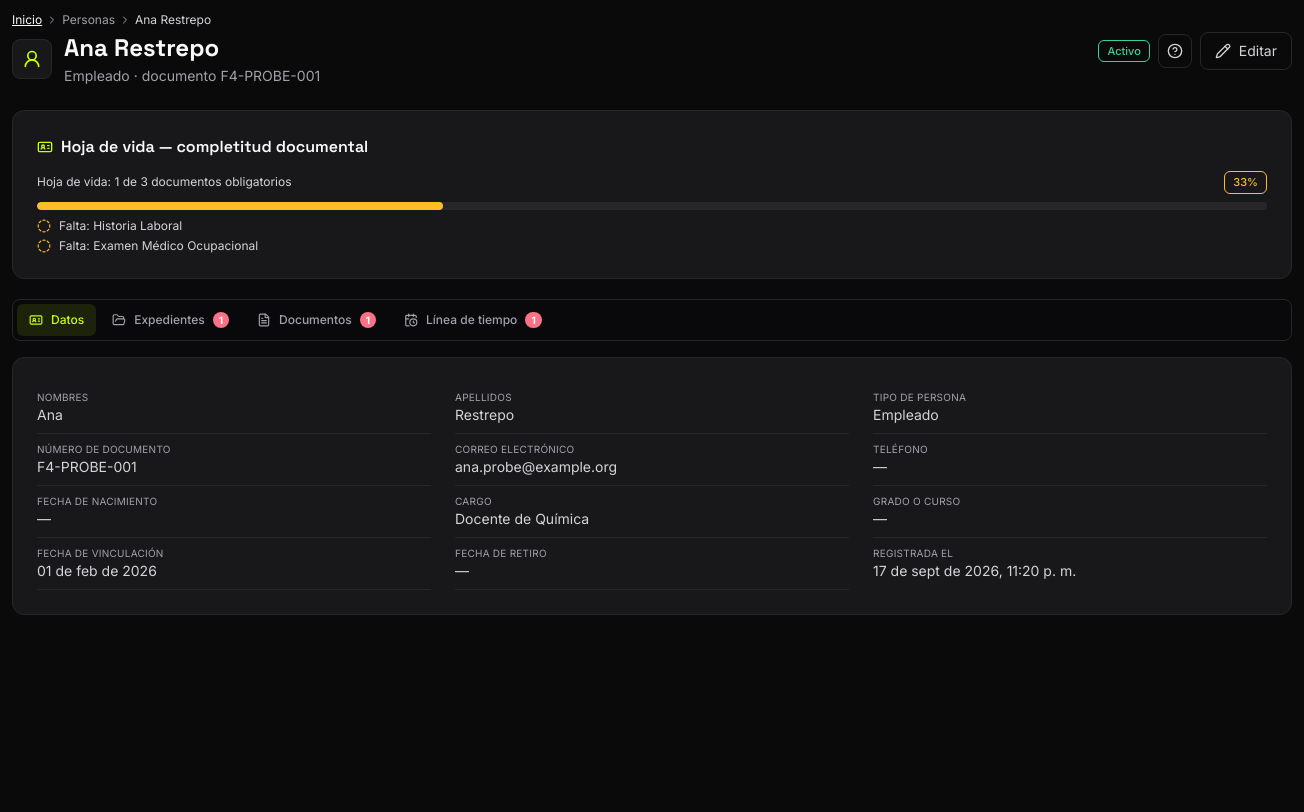
Test: Ficha de persona › cambia a Expedientes y muestra el expediente laboral automático
Expected: the element showing "Datos Expedientes 1 Documentos 1 Línea de tiempo 1" is shown, [12,298,1292,340]
Click the tab "Expedientes 1".
click(171, 320)  # box [100,304,241,336]
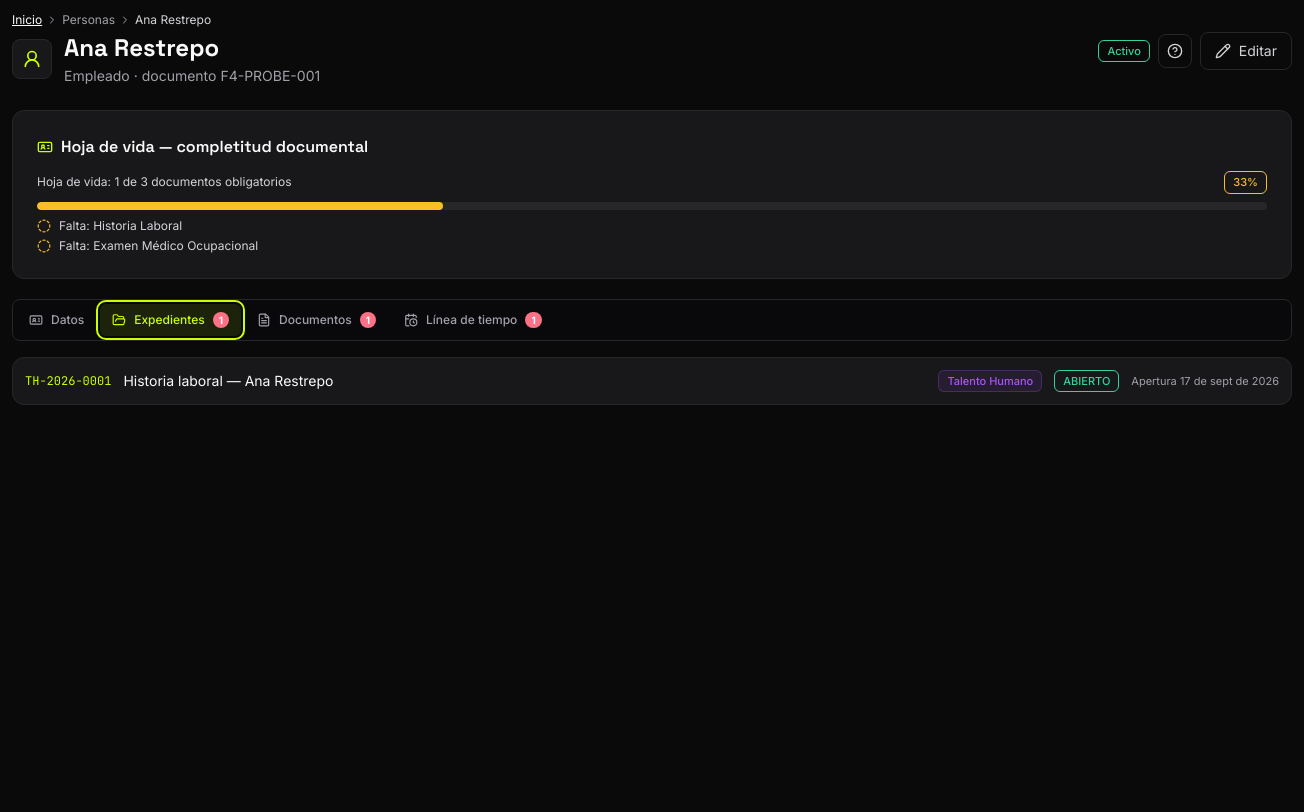
Expected: the text "TH-2026-0001" is shown, [25,373,111,389]
Expected: the text "Historia laboral — Ana Restrepo" is shown, [123,372,334,389]
